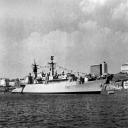Fragata: (10, 55, 111, 99)
